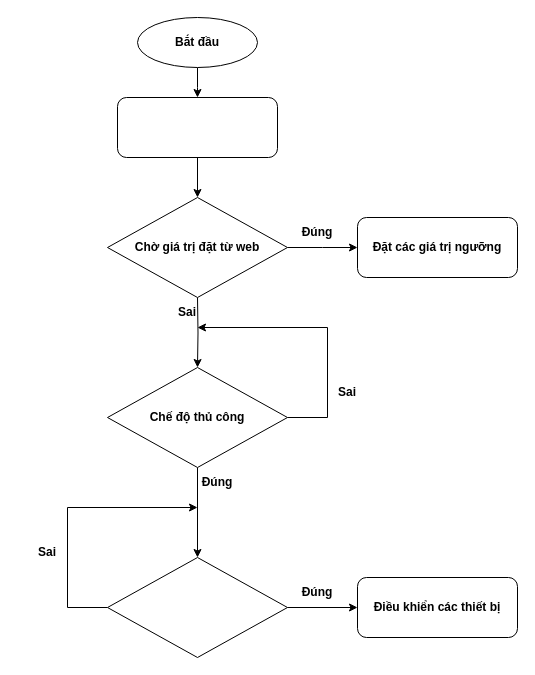
Image size: 535x675. Some labels were removed from this diagram. The shapes that lost their labels are listed below. From the top down, each one's centre as x and y in pixels, then its label:
the point at 197,127: Khởi tạo WiFi Khởi tạo MQTT
the point at 197,607: Chờ lệnh điều khiển từ Webserver
